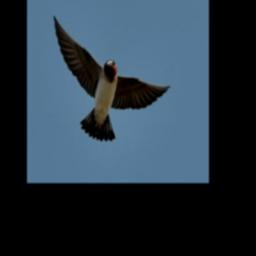Swallow: (52, 13, 170, 141)
